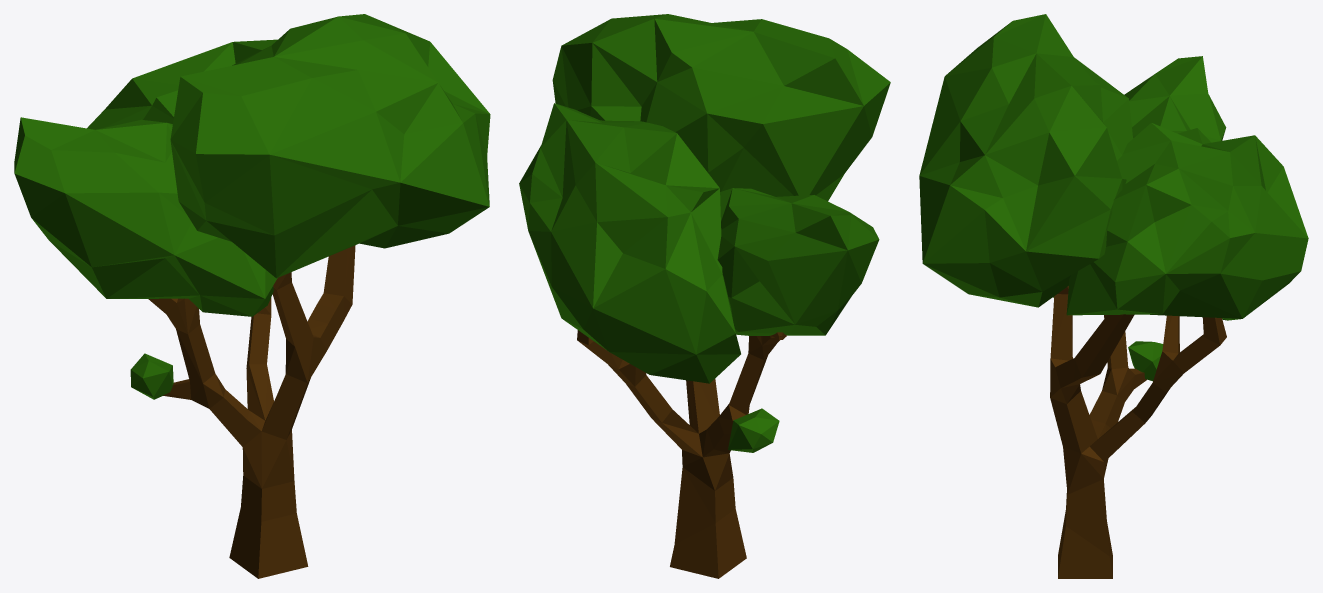
Rendered from OakTree3.fbx.
3 views of the same model, side by side, from view 1: azimuth 30°, elevation 25°; view 2: azimuth 150°, elevation 25°; view 3: azimuth 270°, elevation 25° (orthographic). The views are drawn at different scales.
Parts seen in each view (by area): view 1: OakTree3; view 2: OakTree3; view 3: OakTree3.
Part boxes in pixels (x1,y1,x2,y2): OakTree3: (14, 14, 490, 578); OakTree3: (519, 14, 890, 578); OakTree3: (919, 14, 1308, 578).
Bounding box in the file's own units: 7.52 × 9.51 × 6.57.
